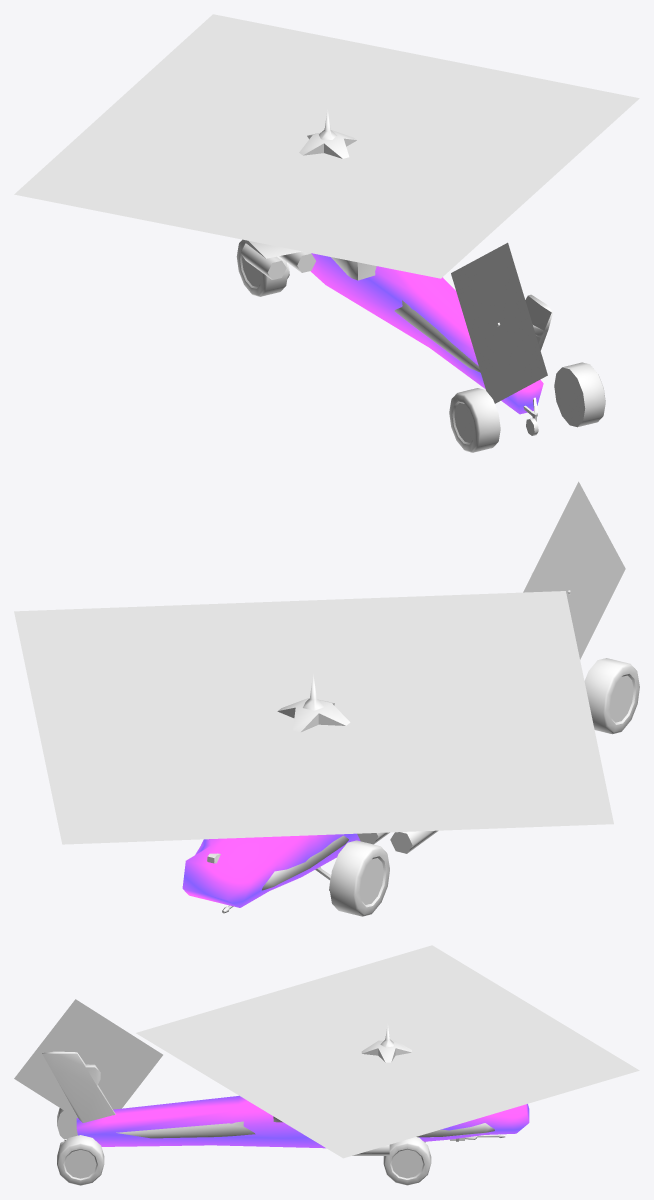
The model's file is Apache.fbx.
3 renders of one model, top to bottom at view 1: azimuth 30°, elevation 25°; view 2: azimuth 150°, elevation 25°; view 3: azimuth 270°, elevation 25°, orthographic. The views are drawn at different scales.
Parts seen in each view (by area): view 1: ApacheTopRotor, ApacheBackRotor, ApacheProxy, Apache, ApacheWheel_RB, ApacheWheel_LB, ApacheWheel_LF; view 2: ApacheTopRotor, ApacheBackRotor, ApacheProxy, Apache, ApacheWheel_LF, ApacheWheel_LB; view 3: ApacheTopRotor, ApacheProxy, ApacheBackRotor, Apache, ApacheWheel_RB, ApacheWheel_RF, ApacheWheel_LB.
Boxes of the visible parts, x1,y1,x2,y2 form: ApacheTopRotor: (14, 14, 639, 278); ApacheBackRotor: (451, 242, 547, 403); ApacheProxy: (310, 253, 543, 414); Apache: (241, 109, 553, 435); ApacheWheel_RB: (554, 362, 605, 427); ApacheWheel_LB: (449, 388, 500, 452); ApacheWheel_LF: (236, 239, 288, 296); ApacheTopRotor: (14, 591, 613, 844); ApacheBackRotor: (523, 481, 625, 659); ApacheProxy: (182, 833, 360, 907); Apache: (207, 572, 571, 913); ApacheWheel_LF: (329, 840, 389, 916); ApacheWheel_LB: (584, 658, 639, 734); ApacheTopRotor: (136, 945, 639, 1158); ApacheProxy: (76, 1095, 529, 1148); ApacheBackRotor: (14, 999, 162, 1118); Apache: (42, 1023, 505, 1155); ApacheWheel_RB: (57, 1135, 104, 1185); ApacheWheel_RF: (383, 1137, 431, 1185); ApacheWheel_LB: (57, 1108, 77, 1138).
Bounding box in the file's own units: 10.97 × 13.62 × 3.71.
